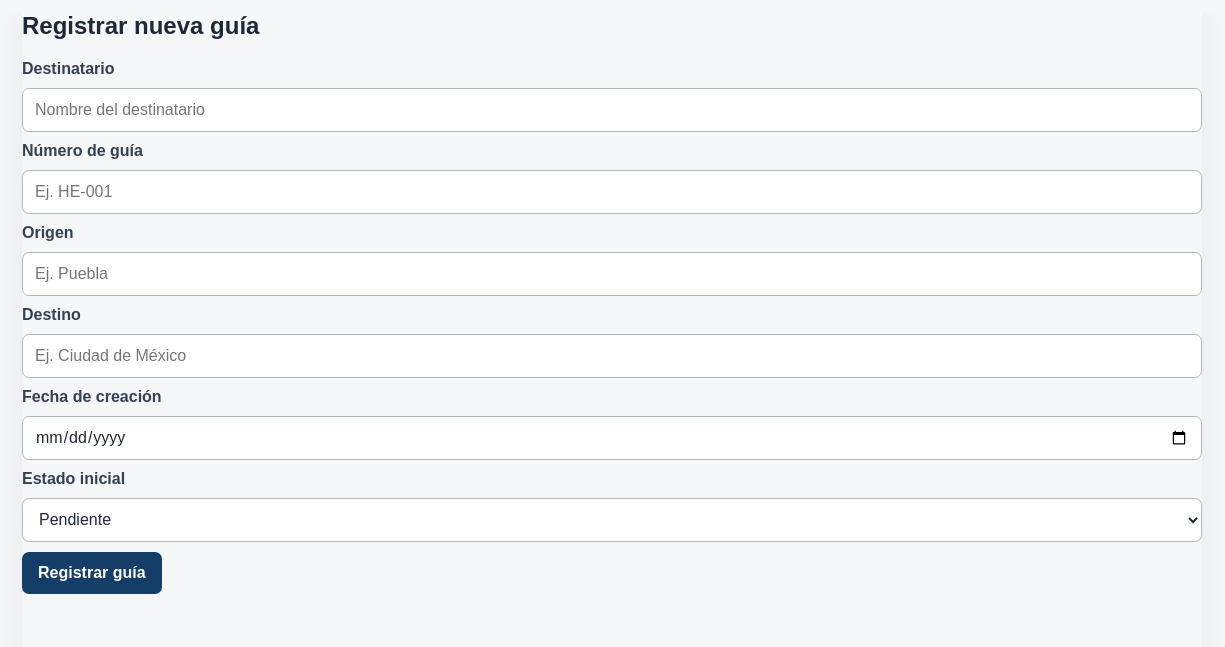
Test: GuideForm › muestra un error y no registra si el número de guía ya existe
Type "Juan Pérez" into the field with placeholder "Nombre del destinatario" at (612, 110), box [22, 88, 1202, 132]
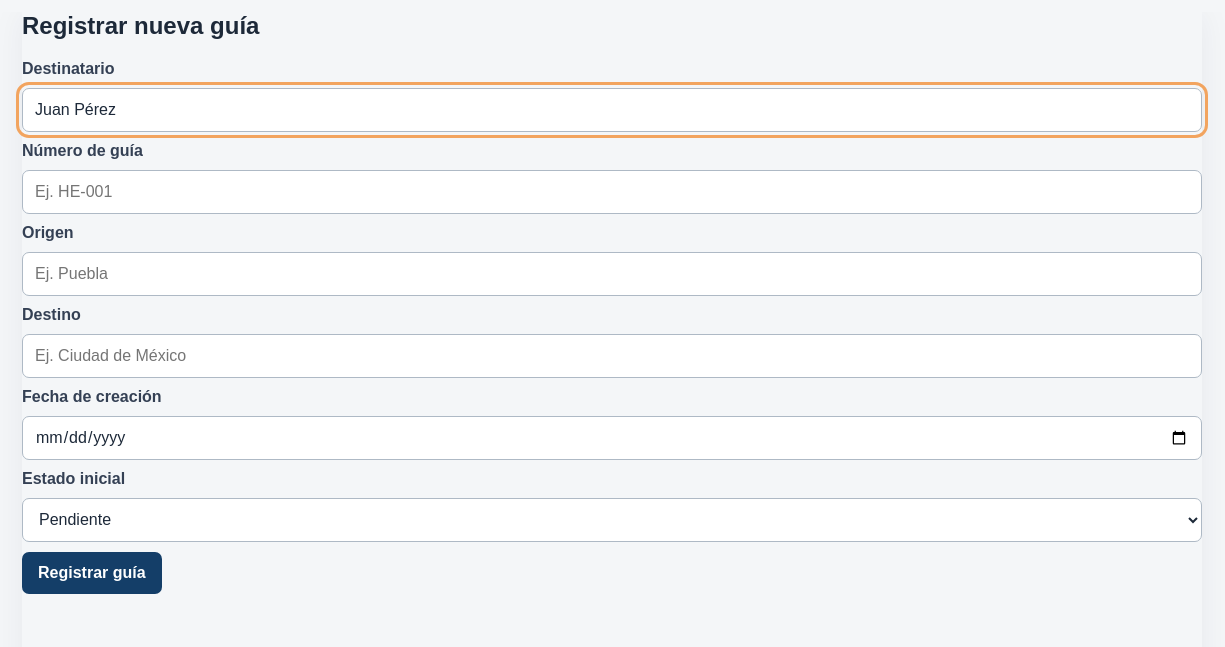
Type "HE-001" into the field with placeholder "Ej. HE-001" at (612, 192), box [22, 170, 1202, 214]
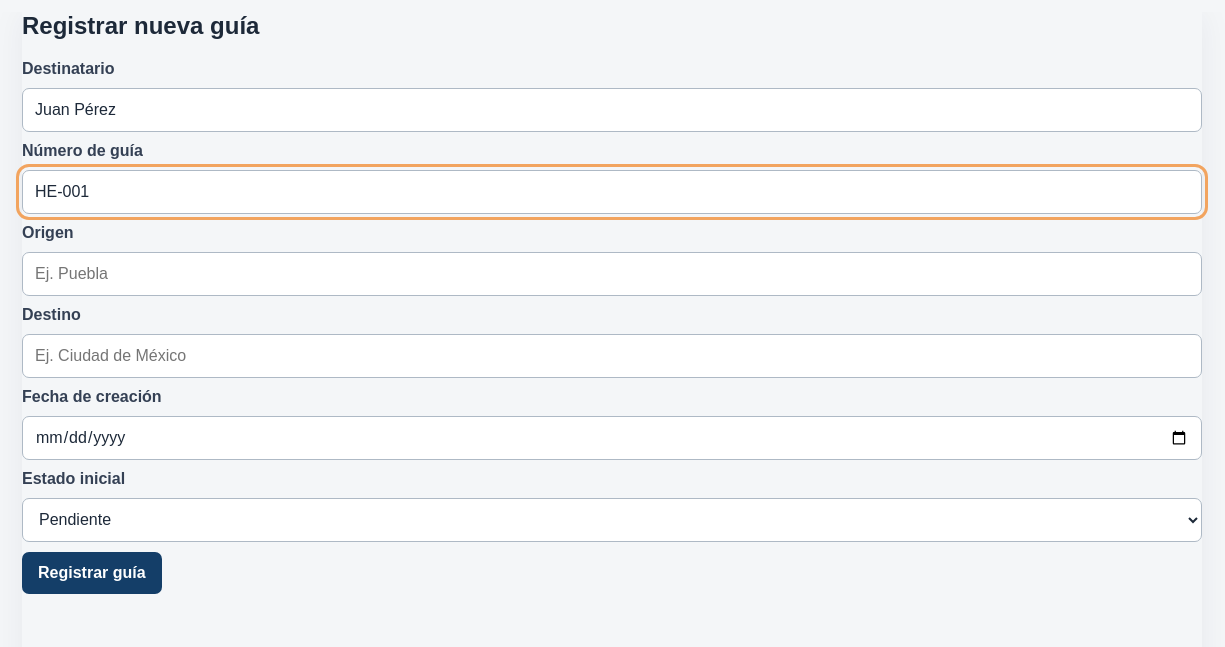
Type "Puebla" into the field with placeholder "Ej. Puebla" at (612, 274), box [22, 252, 1202, 296]
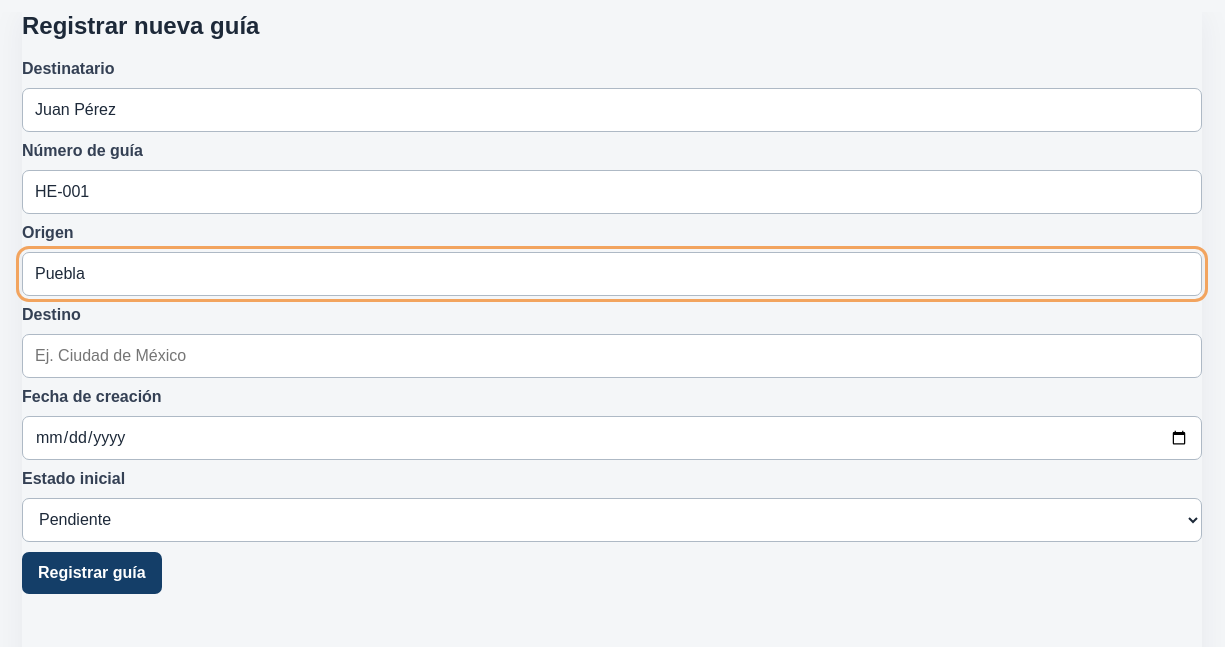
Type "Ciudad de México" into the field with placeholder "Ej. Ciudad de México" at (612, 356), box [22, 334, 1202, 378]
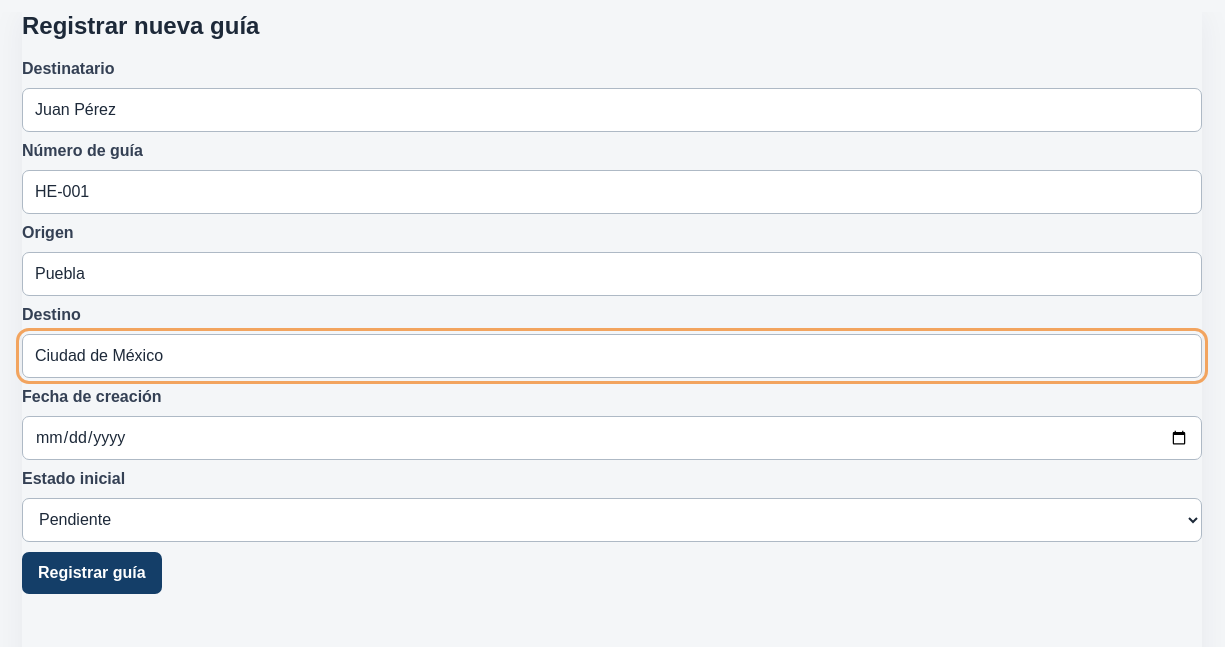
Type "2026-10-04" into the date field labelled "Fecha de creación" at (612, 438), box [22, 416, 1202, 460]
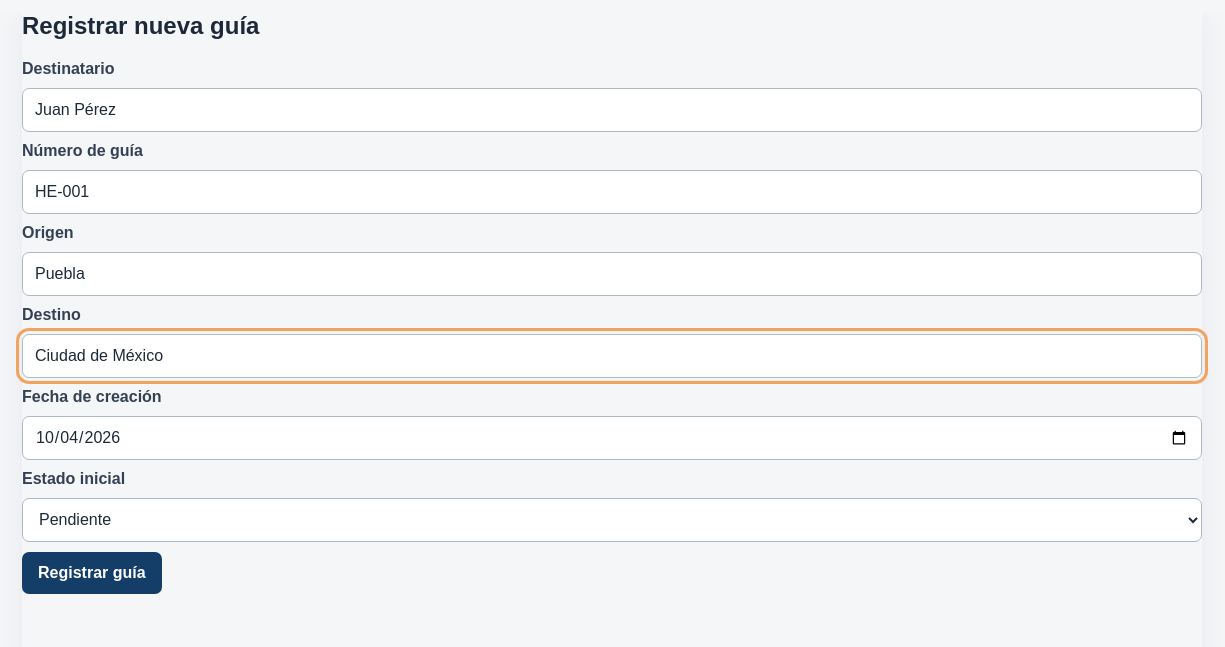
Click the button "Registrar guía" at (92, 573), box [22, 552, 162, 594]
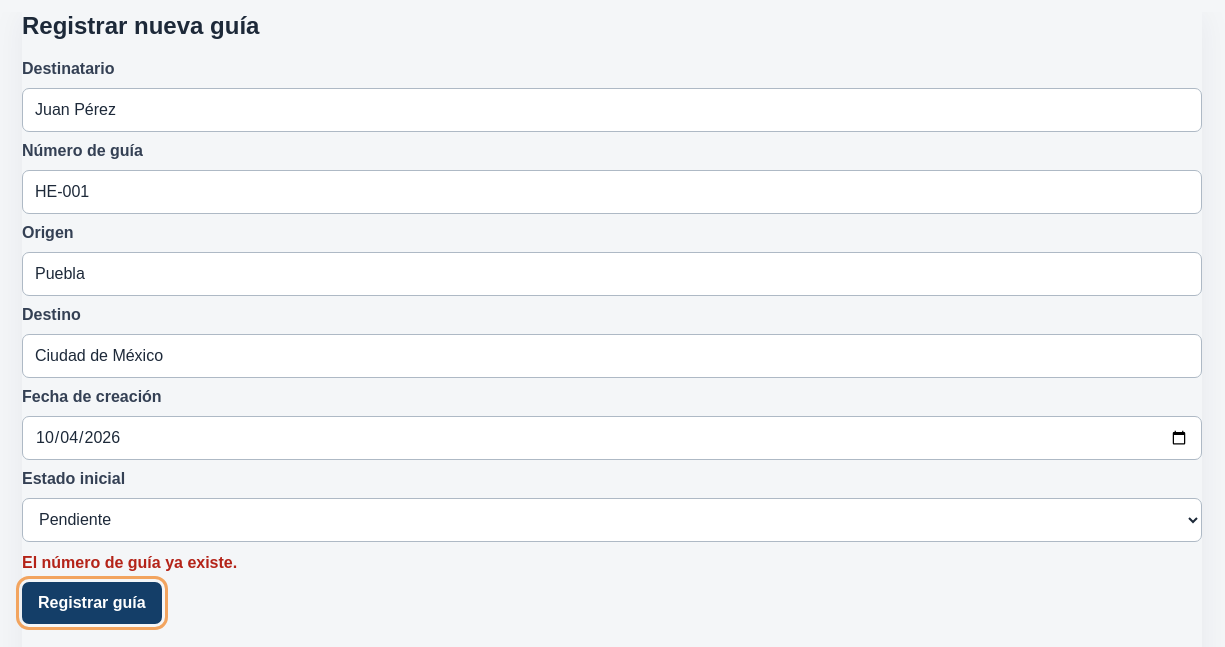
Expected: the text "El número de guía ya existe." is shown, [22, 554, 237, 571]
